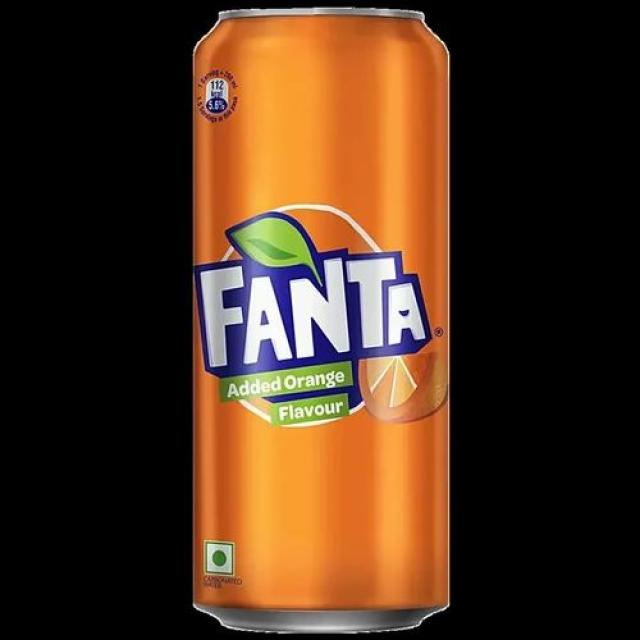fanta: (191, 11, 445, 640)
